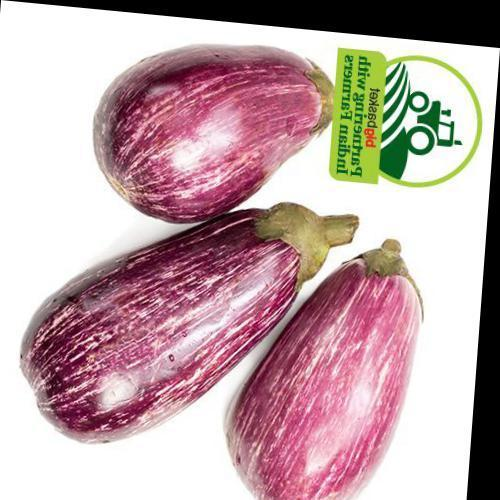eggplant: (10, 28, 356, 434), (246, 228, 455, 499), (80, 7, 344, 202)
